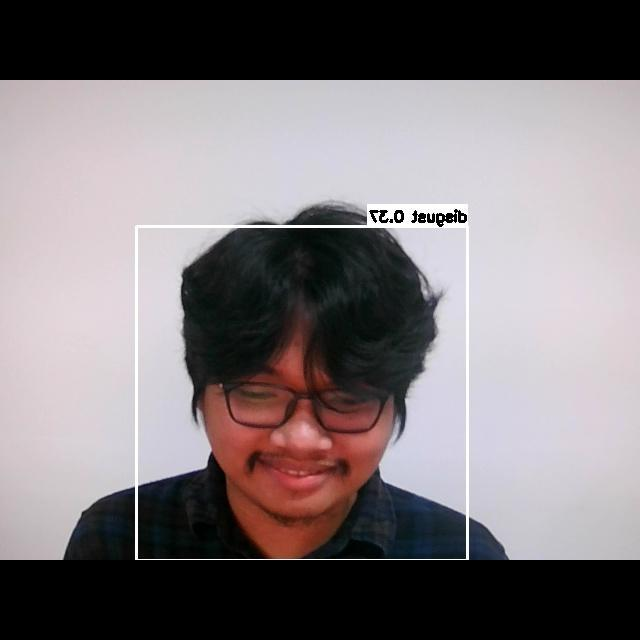Happy: (201, 347, 399, 501)
